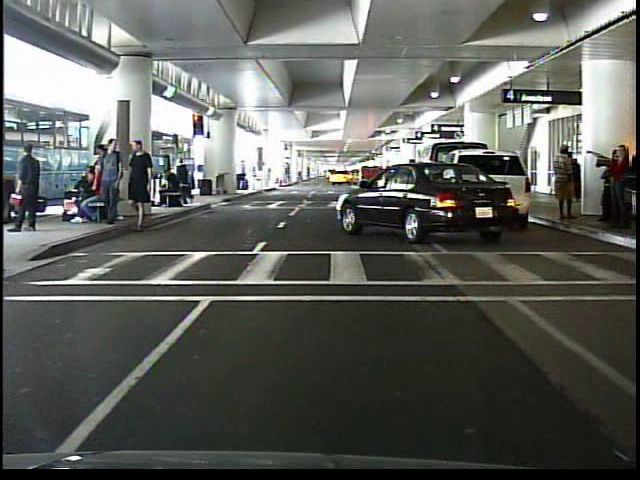person: (14, 139, 48, 237), (553, 145, 578, 224), (156, 163, 186, 210), (175, 156, 201, 209)
